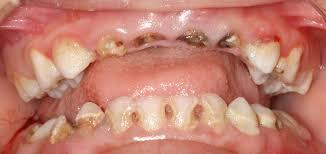Caries: (188, 99, 215, 129), (133, 27, 165, 52), (97, 34, 128, 58), (268, 113, 296, 137), (123, 108, 151, 130), (159, 101, 181, 129), (54, 118, 78, 143), (181, 28, 209, 49), (72, 115, 102, 134), (263, 65, 287, 86), (220, 34, 243, 52)
